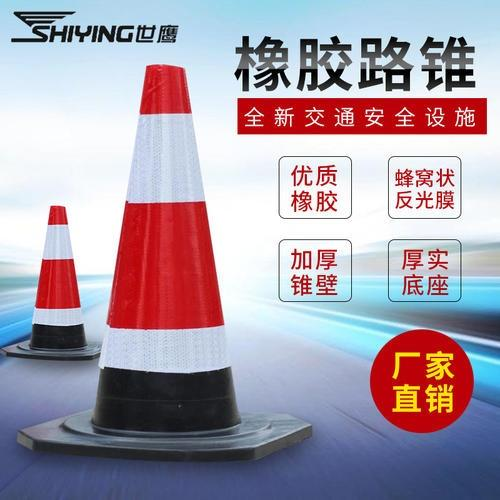cone_barrel: (82, 69, 252, 448), (21, 202, 91, 357)
